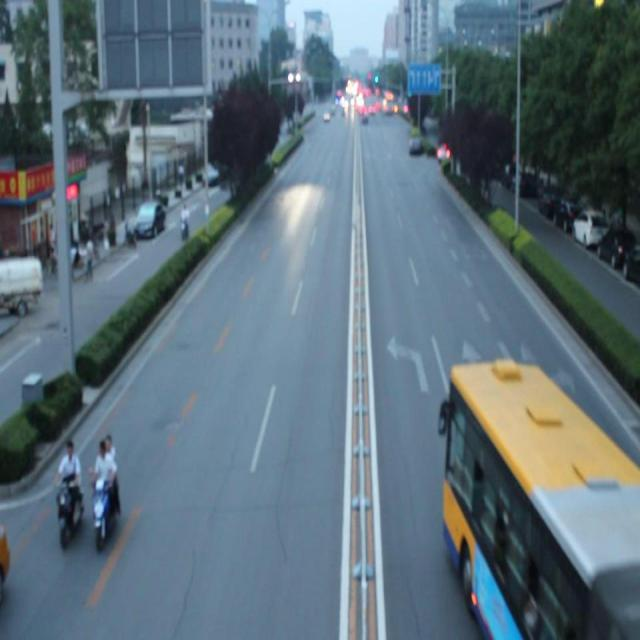van: (444, 359, 640, 640)
